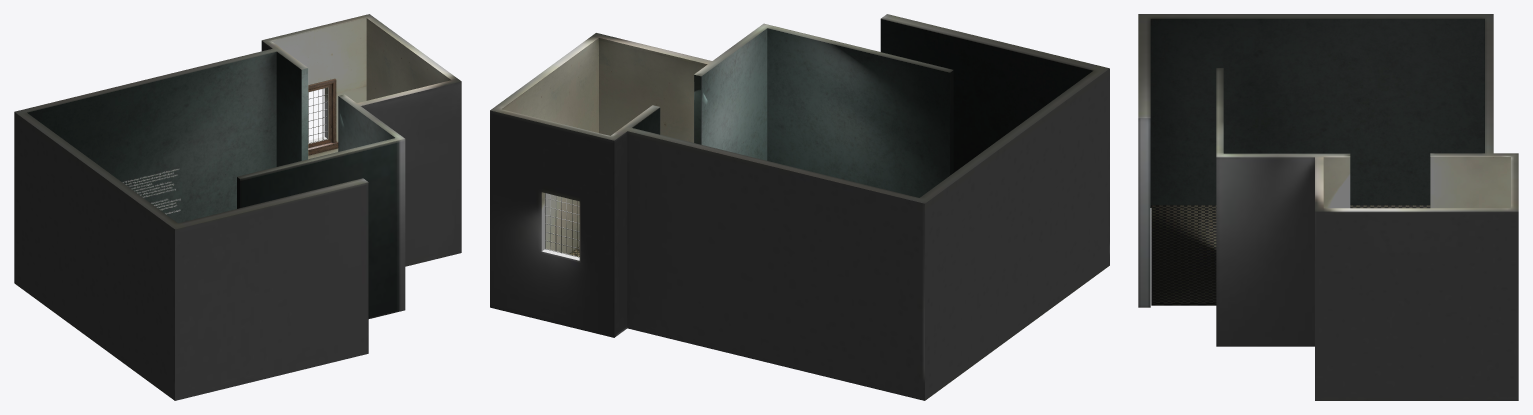
File: dystopia.glb
3 renders of one model, left to right at view 1: azimuth 30°, elevation 25°; view 2: azimuth 150°, elevation 25°; view 3: azimuth 270°, elevation 25°, orthographic. The views are drawn at different scales.
Parts seen in each view (by area): view 1: Wall_dystopia.001, ramaKratka_dystopia.bake; view 2: Wall_dystopia.001, ramaKratka_dystopia.bake; view 3: Wall_dystopia.001, Floor_dystopia.bake.
Part boxes in pixels (left/top/right/bottom): Wall_dystopia.001: left=14, top=14, right=461, bottom=400; ramaKratka_dystopia.bake: left=308, top=79, right=338, bottom=155; Wall_dystopia.001: left=490, top=14, right=1109, bottom=400; ramaKratka_dystopia.bake: left=545, top=193, right=579, bottom=257; Wall_dystopia.001: left=1138, top=14, right=1518, bottom=400; Floor_dystopia.bake: left=1151, top=205, right=1430, bottom=305.
Bounding box in the file's own units: 11.11 × 4.96 × 9.03.
Materials: 5 (5 with a texture image).
